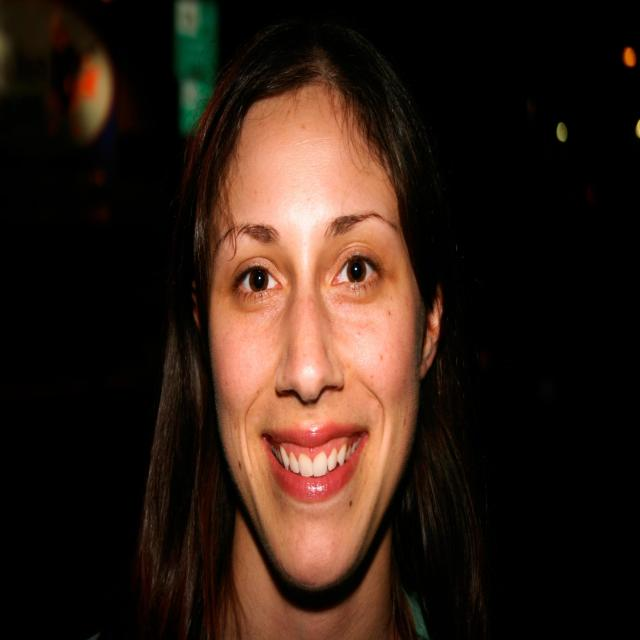Eyebags: (325, 278, 385, 321), (232, 289, 286, 326)
